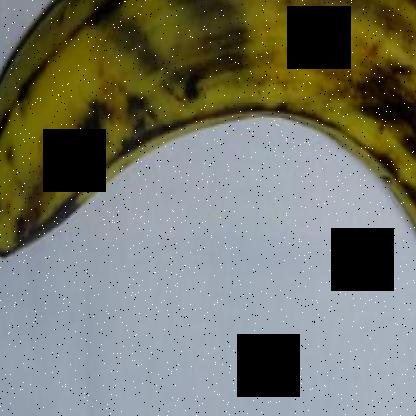overripe: (1, 1, 415, 276)
